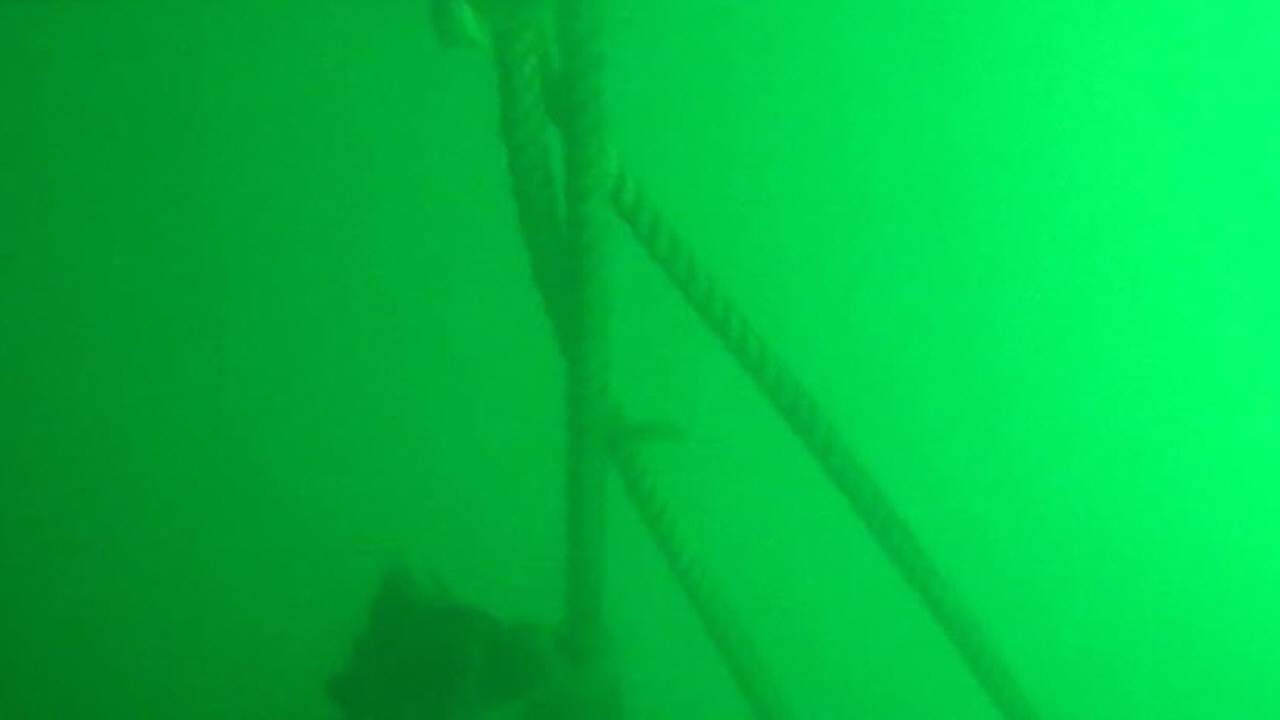bundle of ropes: (491, 0, 1041, 720)
